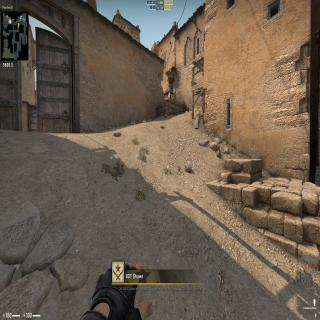T-Head: (170, 74, 172, 77)
